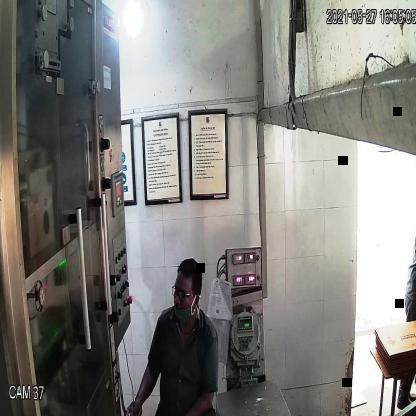goggles: (166, 282, 202, 306)
